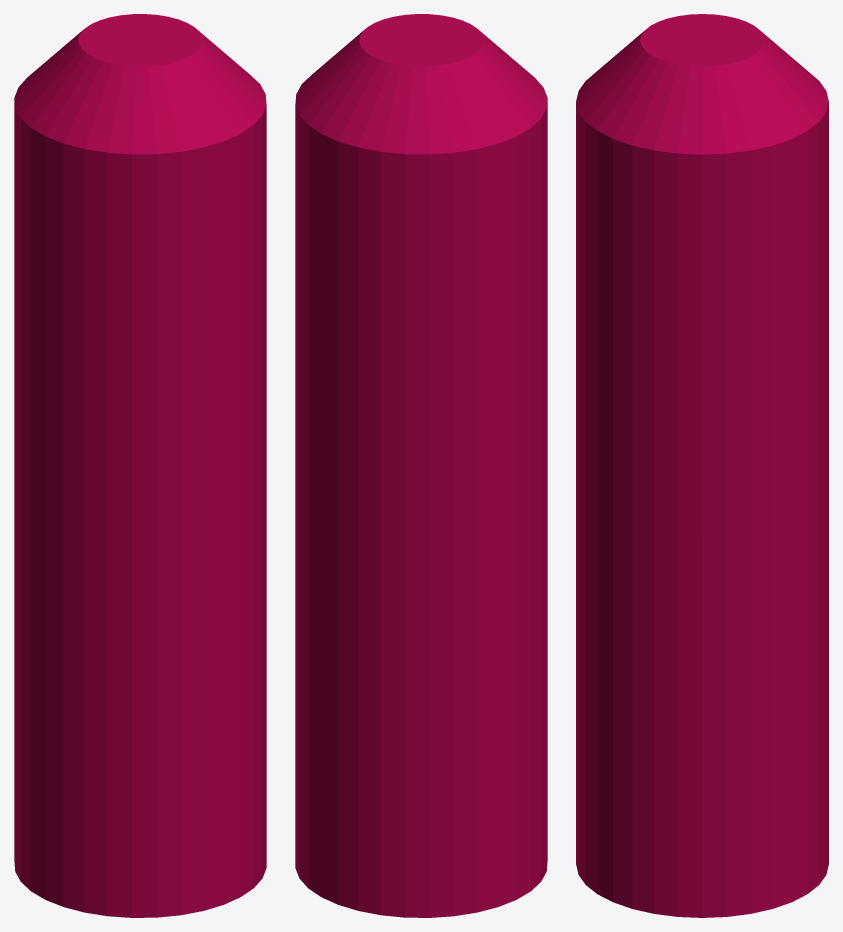
Rendered from tree.fbx.
The picture shows the model from 3 angles, left to right: view 1: azimuth 30°, elevation 25°; view 2: azimuth 150°, elevation 25°; view 3: azimuth 270°, elevation 25°; orthographic projection.
Parts seen in each view (by area): view 1: Cylinder; view 2: Cylinder; view 3: Cylinder.
Part boxes in pixels (box(x1,y1,x2,y2)): Cylinder: box(14, 14, 266, 917); Cylinder: box(295, 14, 547, 917); Cylinder: box(576, 14, 828, 917).
Bounding box in the file's own units: 60 × 216 × 60.
